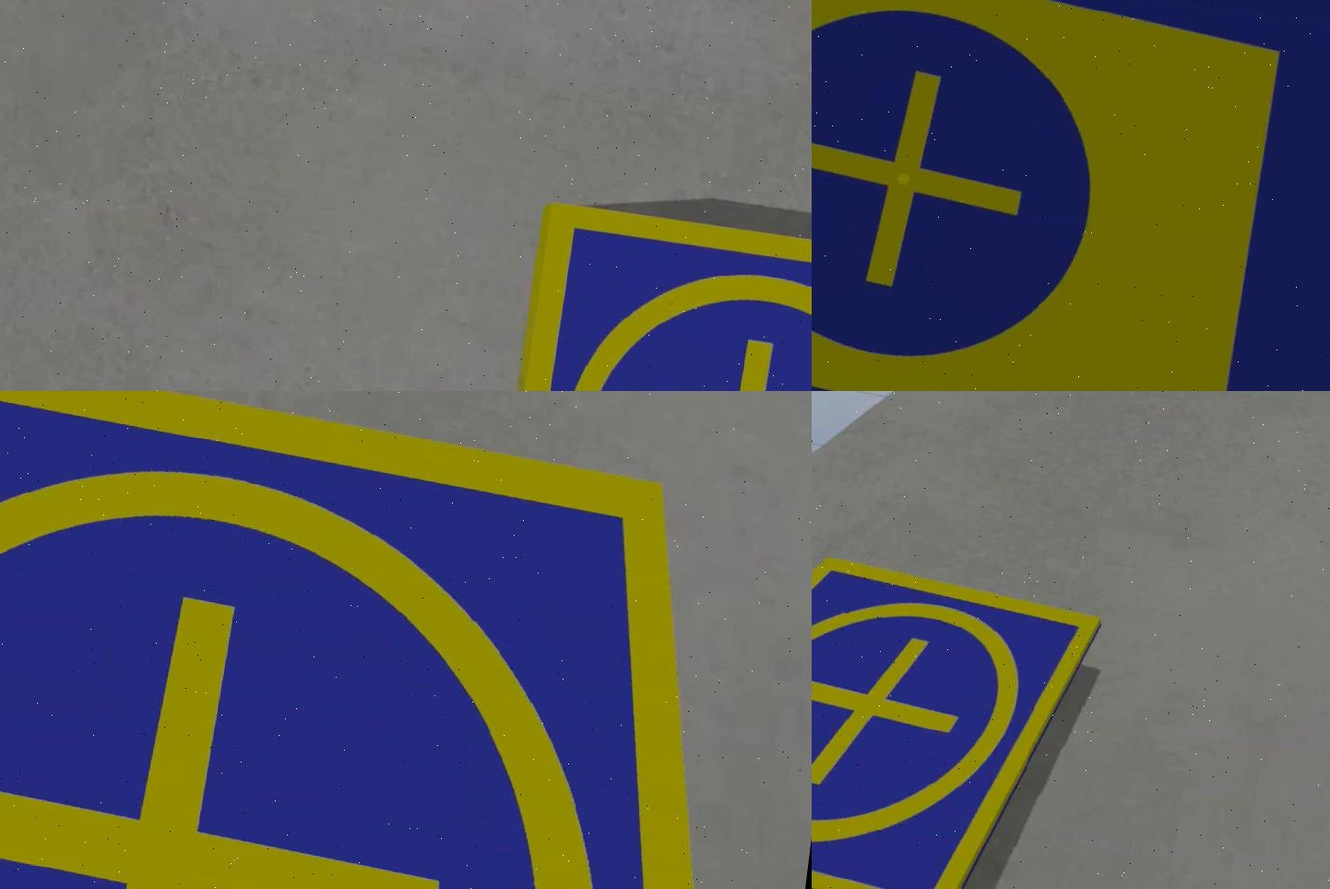large_base: (810, 1, 1328, 391)
small_base: (0, 391, 781, 889), (810, 535, 1102, 889), (488, 196, 810, 391)
